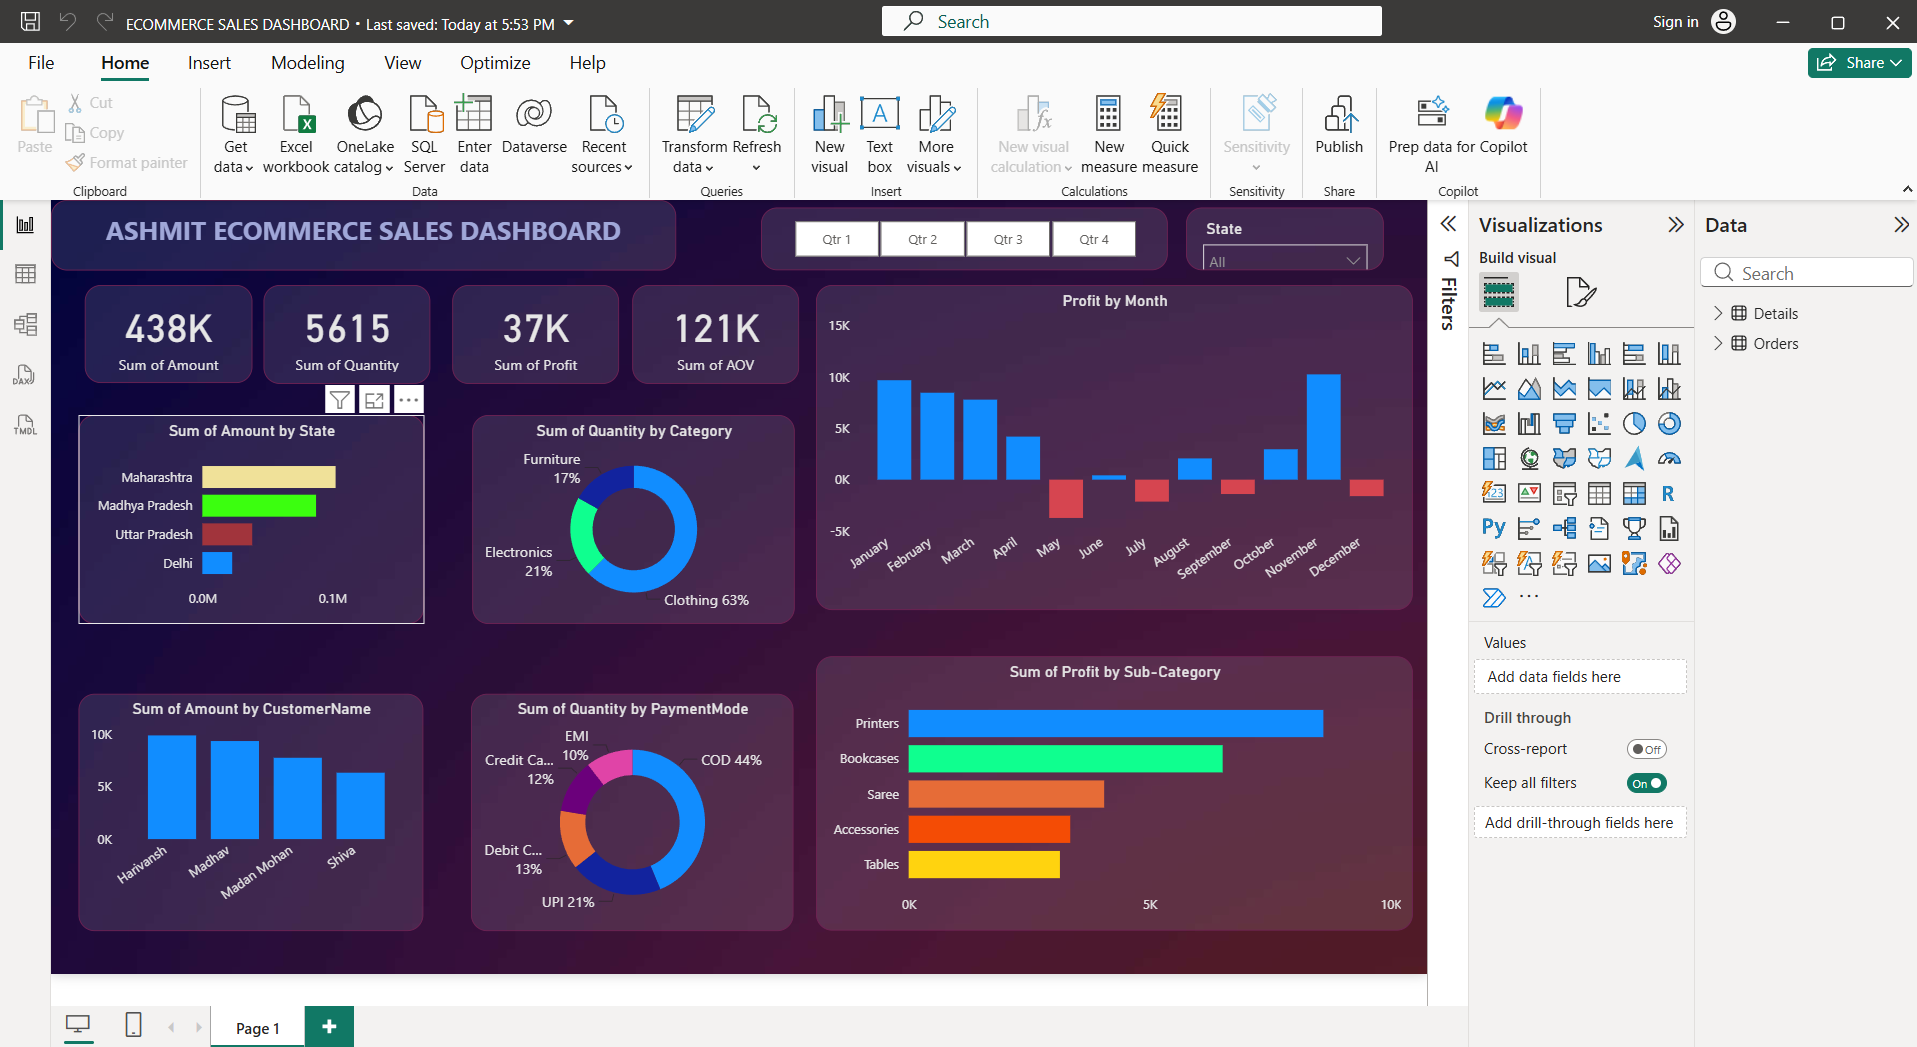

Layout of this report page (visuals, bound fields, positions):
{"tool":"powerbi","page":{"name":"Page 1","canvas":[1280,720],"ordinal":0},"visuals":[{"type":"textbox","box":[0,0,581.4,65.7],"z":0},{"type":"columnChart","title":"Profit by Month","fields":{"Y":["Sum(Details.Profit)"],"Category":["Orders.Order Date.Variation.Date Hierarchy.Month"]},"box":[711.8,78.9,555.3,302.6],"z":1000},{"type":"barChart","fields":{"Category":["Details.Sub-Category"],"Y":["Sum(Details.Profit)"]},"box":[711.8,425,555.3,255.3],"z":2000},{"type":"donutChart","fields":{"Category":["Details.Category"],"Y":["Sum(Details.Quantity)"]},"box":[391.4,200,300,194.3],"z":3000},{"type":"donutChart","fields":{"Y":["Sum(Details.Quantity)"],"Category":["Details.PaymentMode"]},"box":[390.8,459.2,300,221.1],"z":4000},{"type":"card","fields":{"Values":["Sum(Details.Amount)"]},"box":[31.4,78.6,155.7,91.4],"z":5000},{"type":"card","fields":{"Values":["Sum(Details.Quantity)"]},"box":[197.4,78.9,155.3,92.1],"z":6000},{"type":"card","fields":{"Values":["Sum(Details.Profit)"]},"box":[373.7,78.9,155.3,92.1],"z":7000},{"type":"card","fields":{"Values":["Sum(Details.AOV)"]},"box":[540.8,78.9,155.3,92.1],"z":8000},{"type":"barChart","fields":{"Category":["Orders.State"],"Y":["Sum(Details.Amount)"]},"box":[25.7,200,321.4,194.3],"z":9000},{"type":"columnChart","fields":{"Category":["Orders.CustomerName"],"Y":["Sum(Details.Amount)"]},"box":[26,459,321,221],"z":10000},{"type":"slicer","fields":{"Values":["Orders.Order Date.Variation.Date Hierarchy.Quarter"]},"box":[660,7.1,378.6,58.6],"z":10001},{"type":"slicer","fields":{"Values":["Orders.State"]},"box":[1055.7,7.1,184.3,58.6],"z":10002}]}

Visuals, with their boxes on the page's 1280x720 design canvas (x1, y1, x2, y2). These are canvas units, not pixel positions in the 1917x1047 screenshot, which may show the page scaled, cropped or inside an application window:
textbox: <bbox>0, 0, 581, 66</bbox>
"Profit by Month" columnChart: <bbox>712, 79, 1267, 382</bbox>
barChart - Details.Sub-Category x Sum(Details.Profit): <bbox>712, 425, 1267, 680</bbox>
donutChart - Details.Category x Sum(Details.Quantity): <bbox>391, 200, 691, 394</bbox>
donutChart - Sum(Details.Quantity) x Details.PaymentMode: <bbox>391, 459, 691, 680</bbox>
card - Sum(Details.Amount): <bbox>31, 79, 187, 170</bbox>
card - Sum(Details.Quantity): <bbox>197, 79, 353, 171</bbox>
card - Sum(Details.Profit): <bbox>374, 79, 529, 171</bbox>
card - Sum(Details.AOV): <bbox>541, 79, 696, 171</bbox>
barChart - Orders.State x Sum(Details.Amount): <bbox>26, 200, 347, 394</bbox>
columnChart - Orders.CustomerName x Sum(Details.Amount): <bbox>26, 459, 347, 680</bbox>
slicer - Orders.Order Date.Variation.Date Hierarchy.Quarter: <bbox>660, 7, 1039, 66</bbox>
slicer - Orders.State: <bbox>1056, 7, 1240, 66</bbox>
